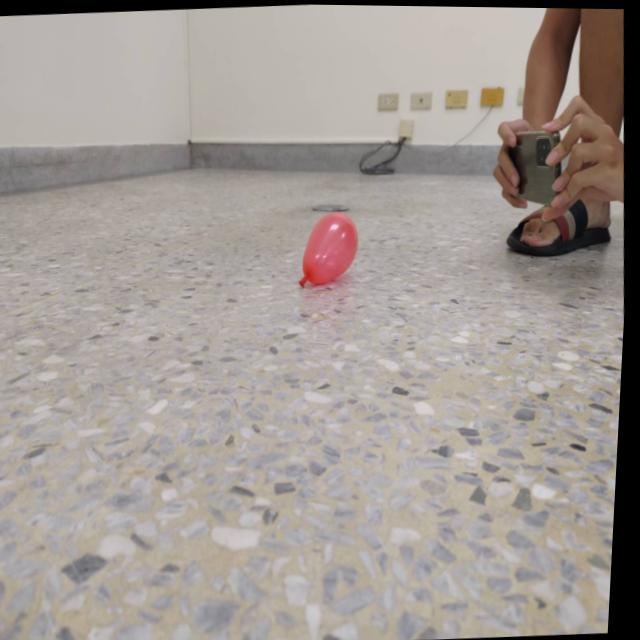red: (298, 209, 364, 286)
